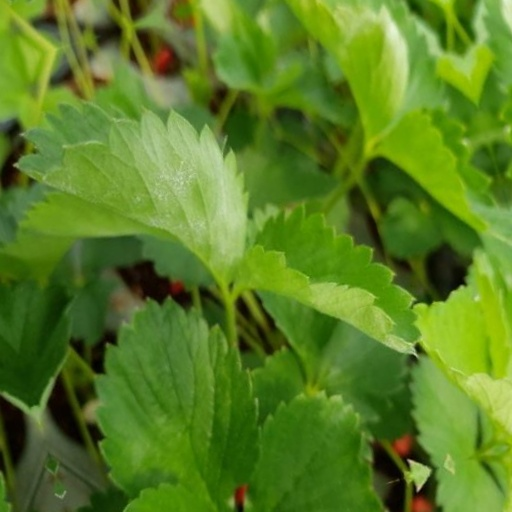Powdery Mildew Leaf: (241, 225, 464, 461), (115, 109, 292, 295)
